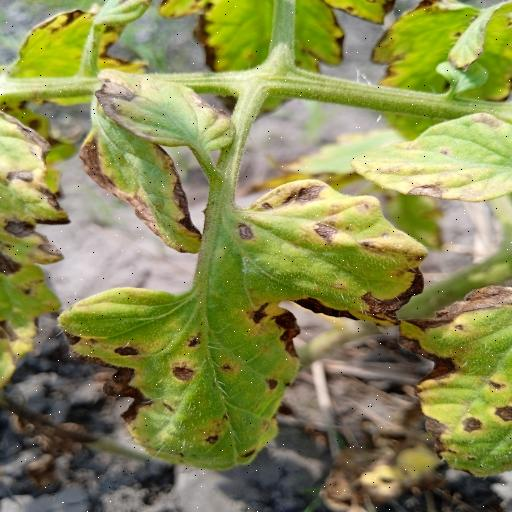Tomato_Brown_Spots: (56, 75, 430, 473), (345, 109, 512, 202)
